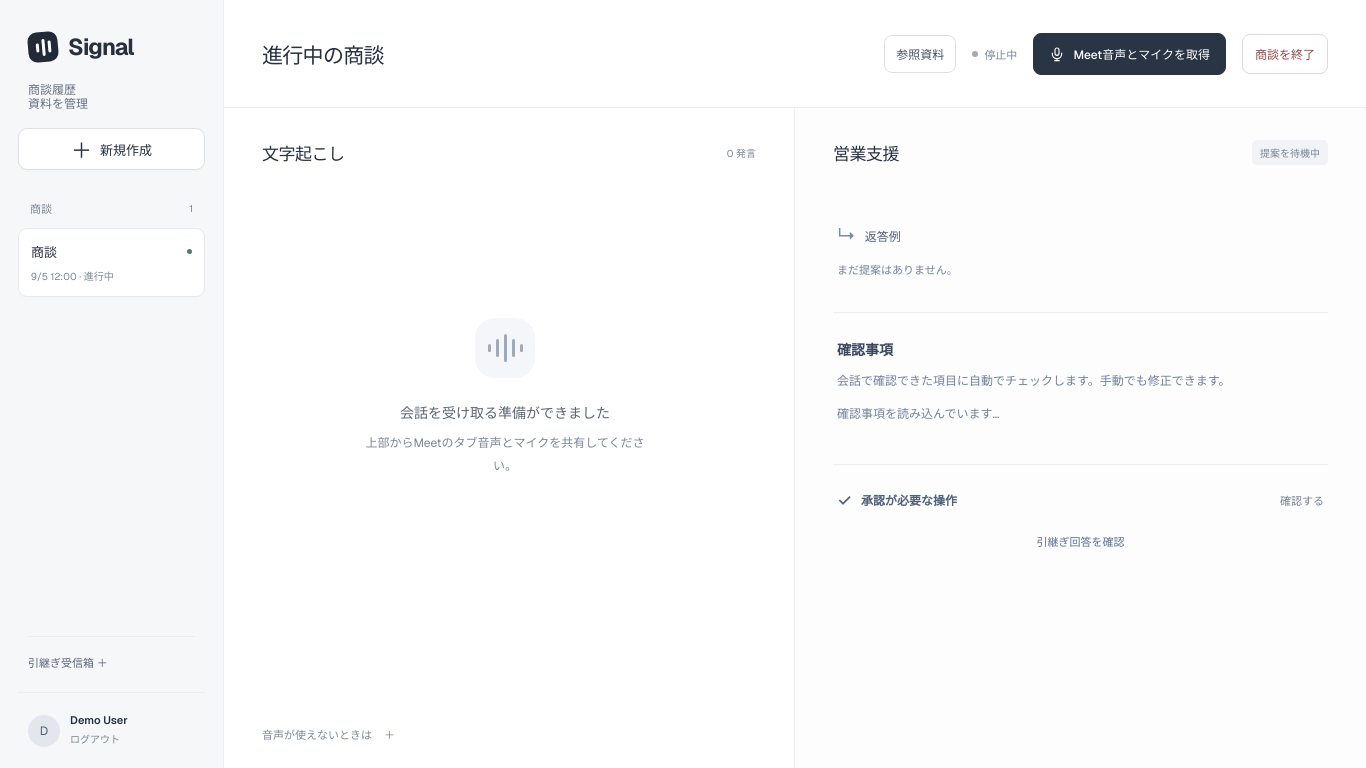
Test: authentication page › waits for live audio to flush before ending and keeps retry available on flush failure
This screenshot has width=1366, height=768.
expect the heading "進行中の商談" is shown: met, box [262,38,384,68]
Click the button "Meet音声とマイクを取得" at (1130,54), box [1033,32,1226,74]
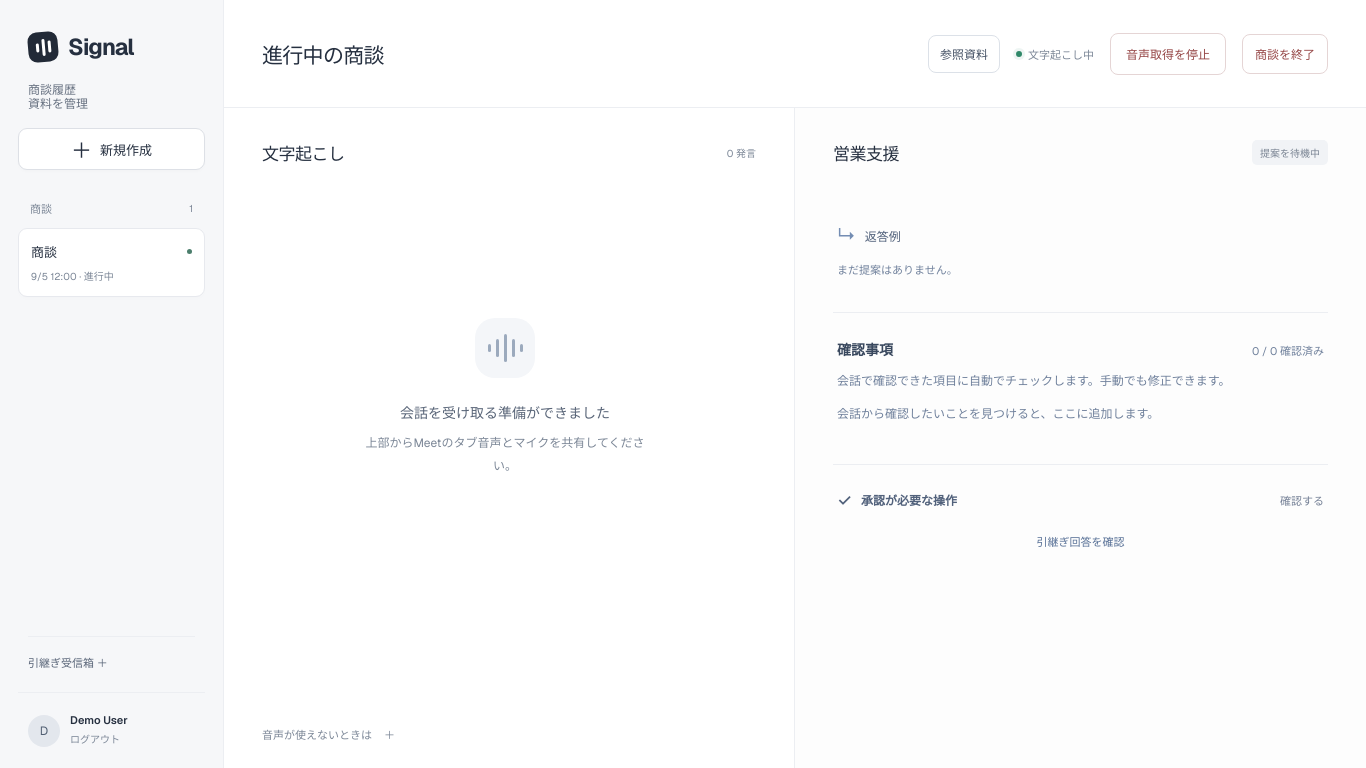
expect the text "文字起こし中" is shown: met, box [1016,46,1094,62]
Click the button "商談を終了" at (1285,54), box [1242,34,1328,74]
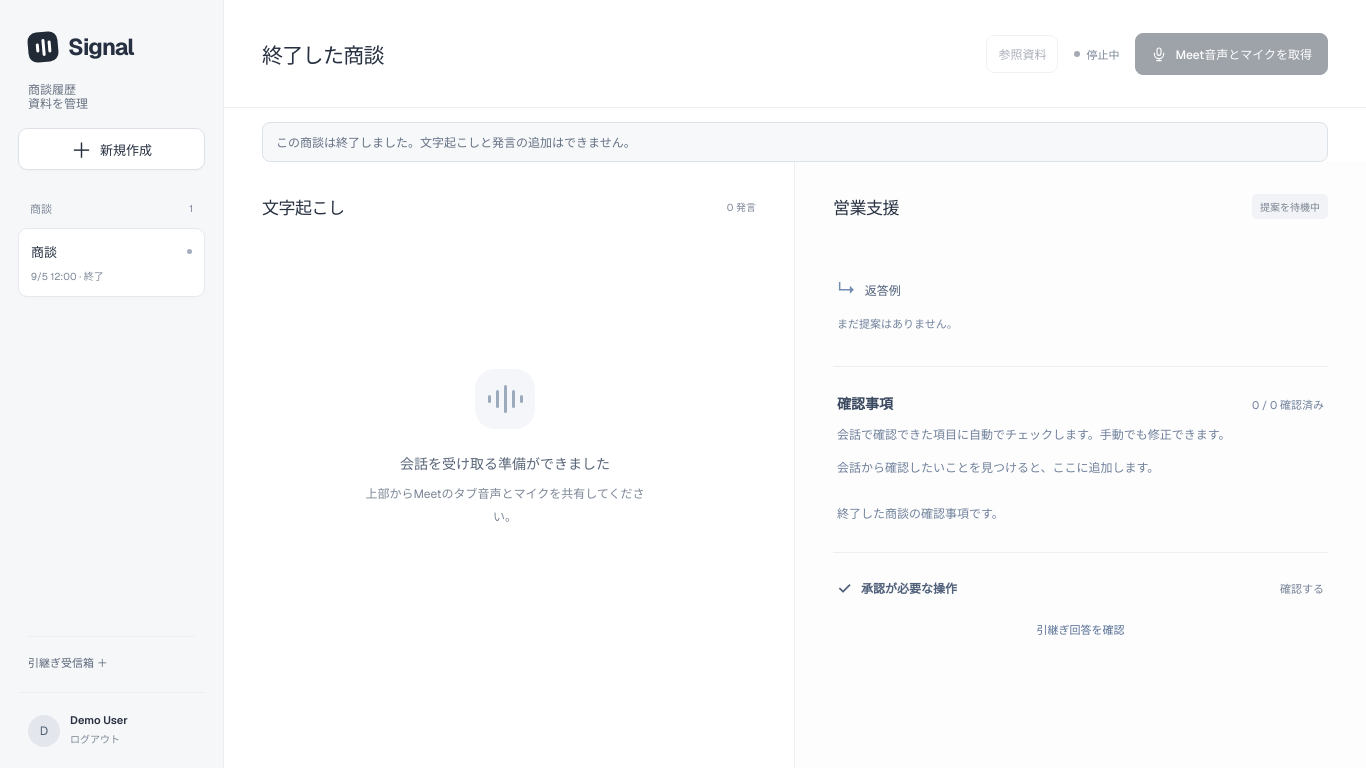
expect the text "この商談は終了しました。文字起こしと発言の追加はできません。" is shown: met, box [262,122,1328,162]
